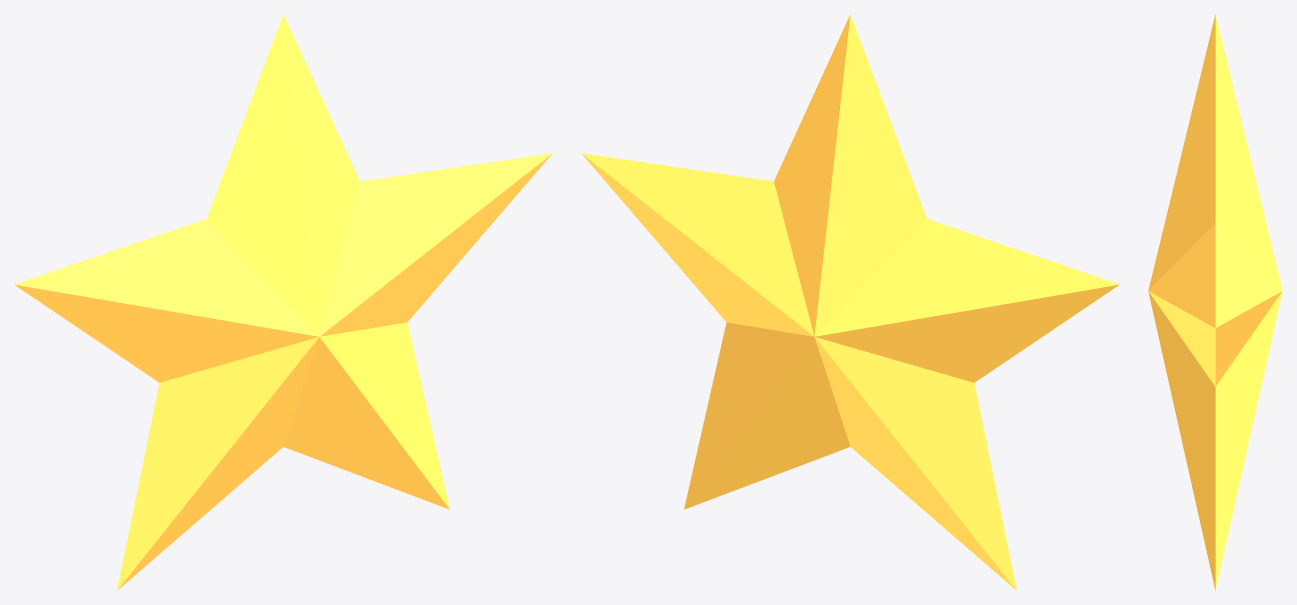
The model's file is star.glb.
3 views of the same model, side by side, from view 1: azimuth 30°, elevation 25°; view 2: azimuth 150°, elevation 25°; view 3: azimuth 270°, elevation 25° (orthographic). The views are drawn at different scales.
Visible parts, largest first — view 1: star; view 2: star; view 3: star.
Boxes of the visible parts, box(x1,y1,x2,y2) form: star: box(14, 14, 552, 590); star: box(581, 14, 1119, 590); star: box(1148, 14, 1282, 590).
Bounding box in the file's own units: 1.9 × 1.81 × 0.44.
